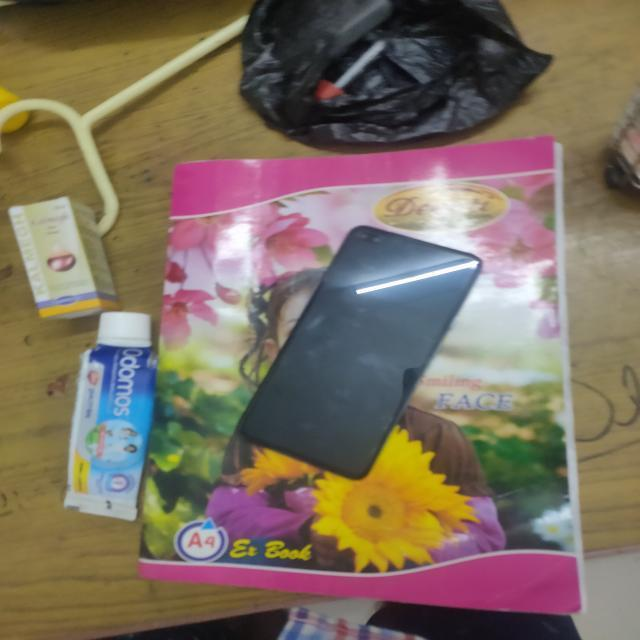Phone: (236, 223, 485, 487)
